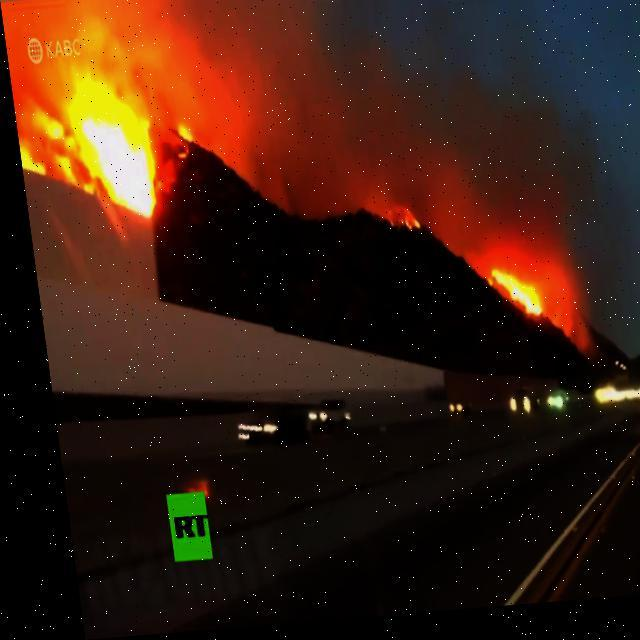Fire: (11, 74, 152, 230), (478, 273, 534, 329), (172, 126, 189, 160), (394, 212, 414, 238)
